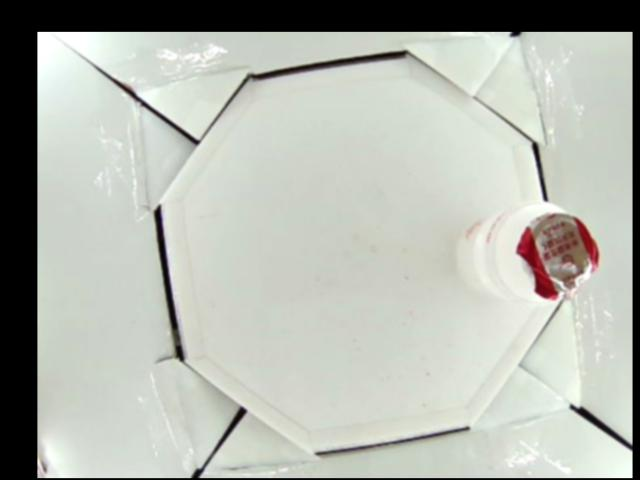Bottle: (454, 201, 600, 302)
